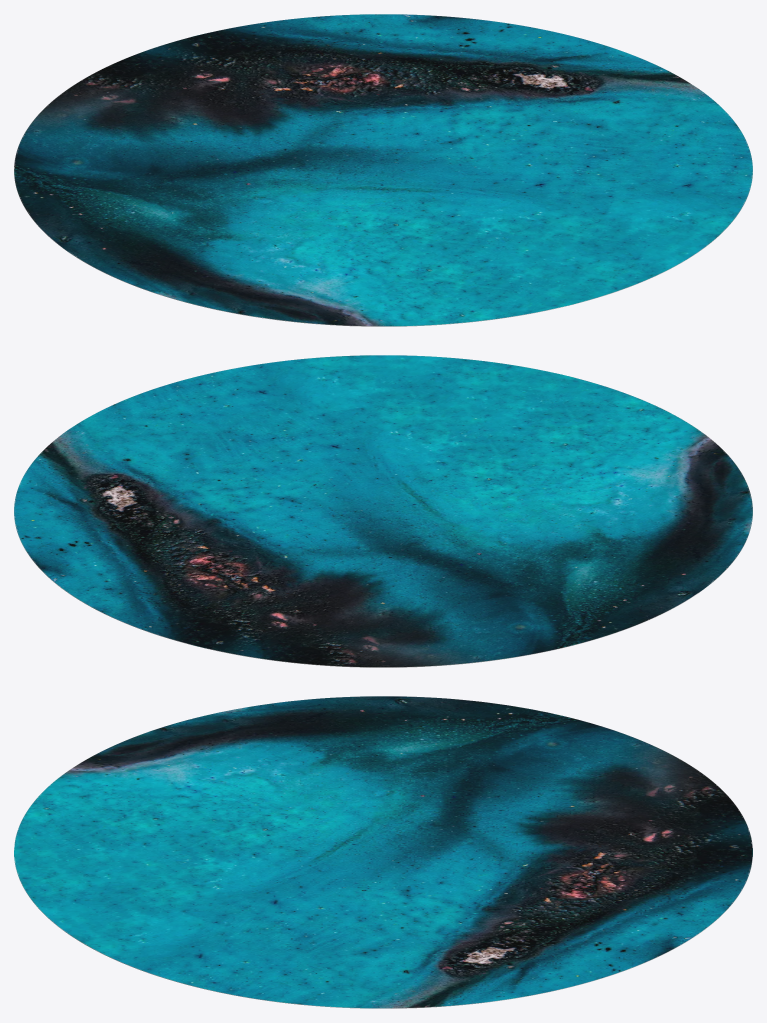
The model's file is kroma-disc.glb.
3 renders of one model, top to bottom at view 1: azimuth 30°, elevation 25°; view 2: azimuth 150°, elevation 25°; view 3: azimuth 270°, elevation 25°, orthographic.
Parts seen in each view (by area): view 1: Disc; view 2: Disc; view 3: Disc.
Boxes of the visible parts, bbox=[...] form: Disc: bbox=[14, 14, 752, 326]; Disc: bbox=[14, 355, 752, 667]; Disc: bbox=[14, 696, 752, 1008].
Size of the model in its own units: 1 by 0.0205 by 1.
Materials: 7 (1 with a texture image).
